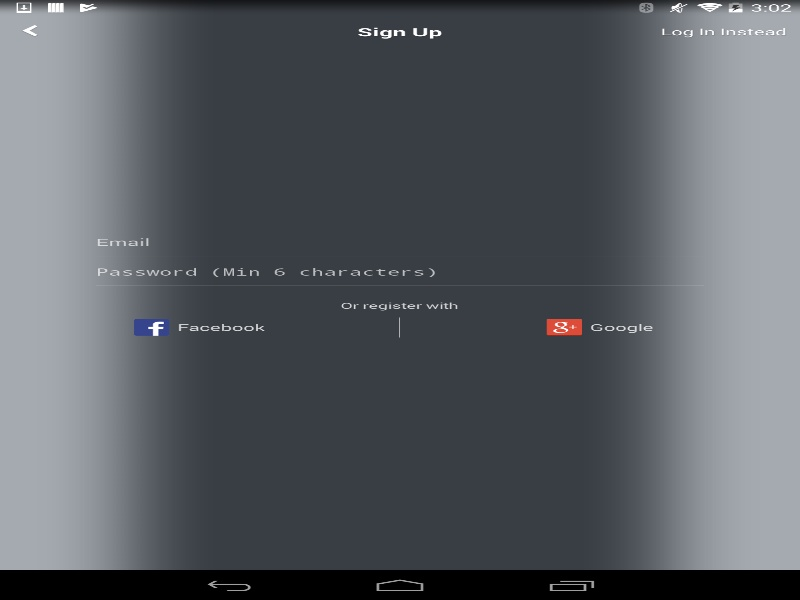Button: (447, 15, 800, 48)
Input: (96, 258, 704, 285), (96, 229, 704, 255)
